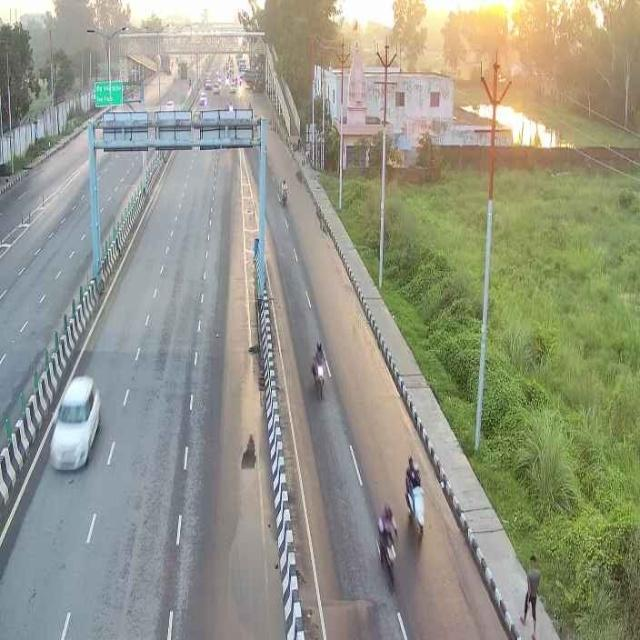car: (46, 369, 104, 472)
